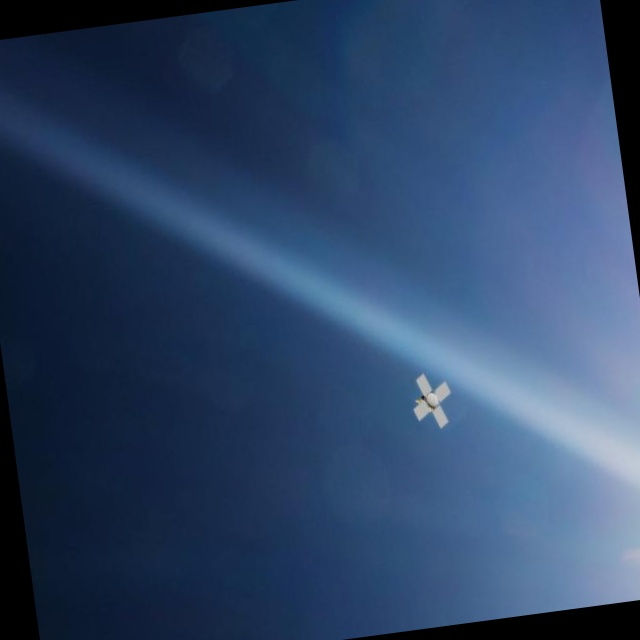satellite: (396, 365, 466, 439)
